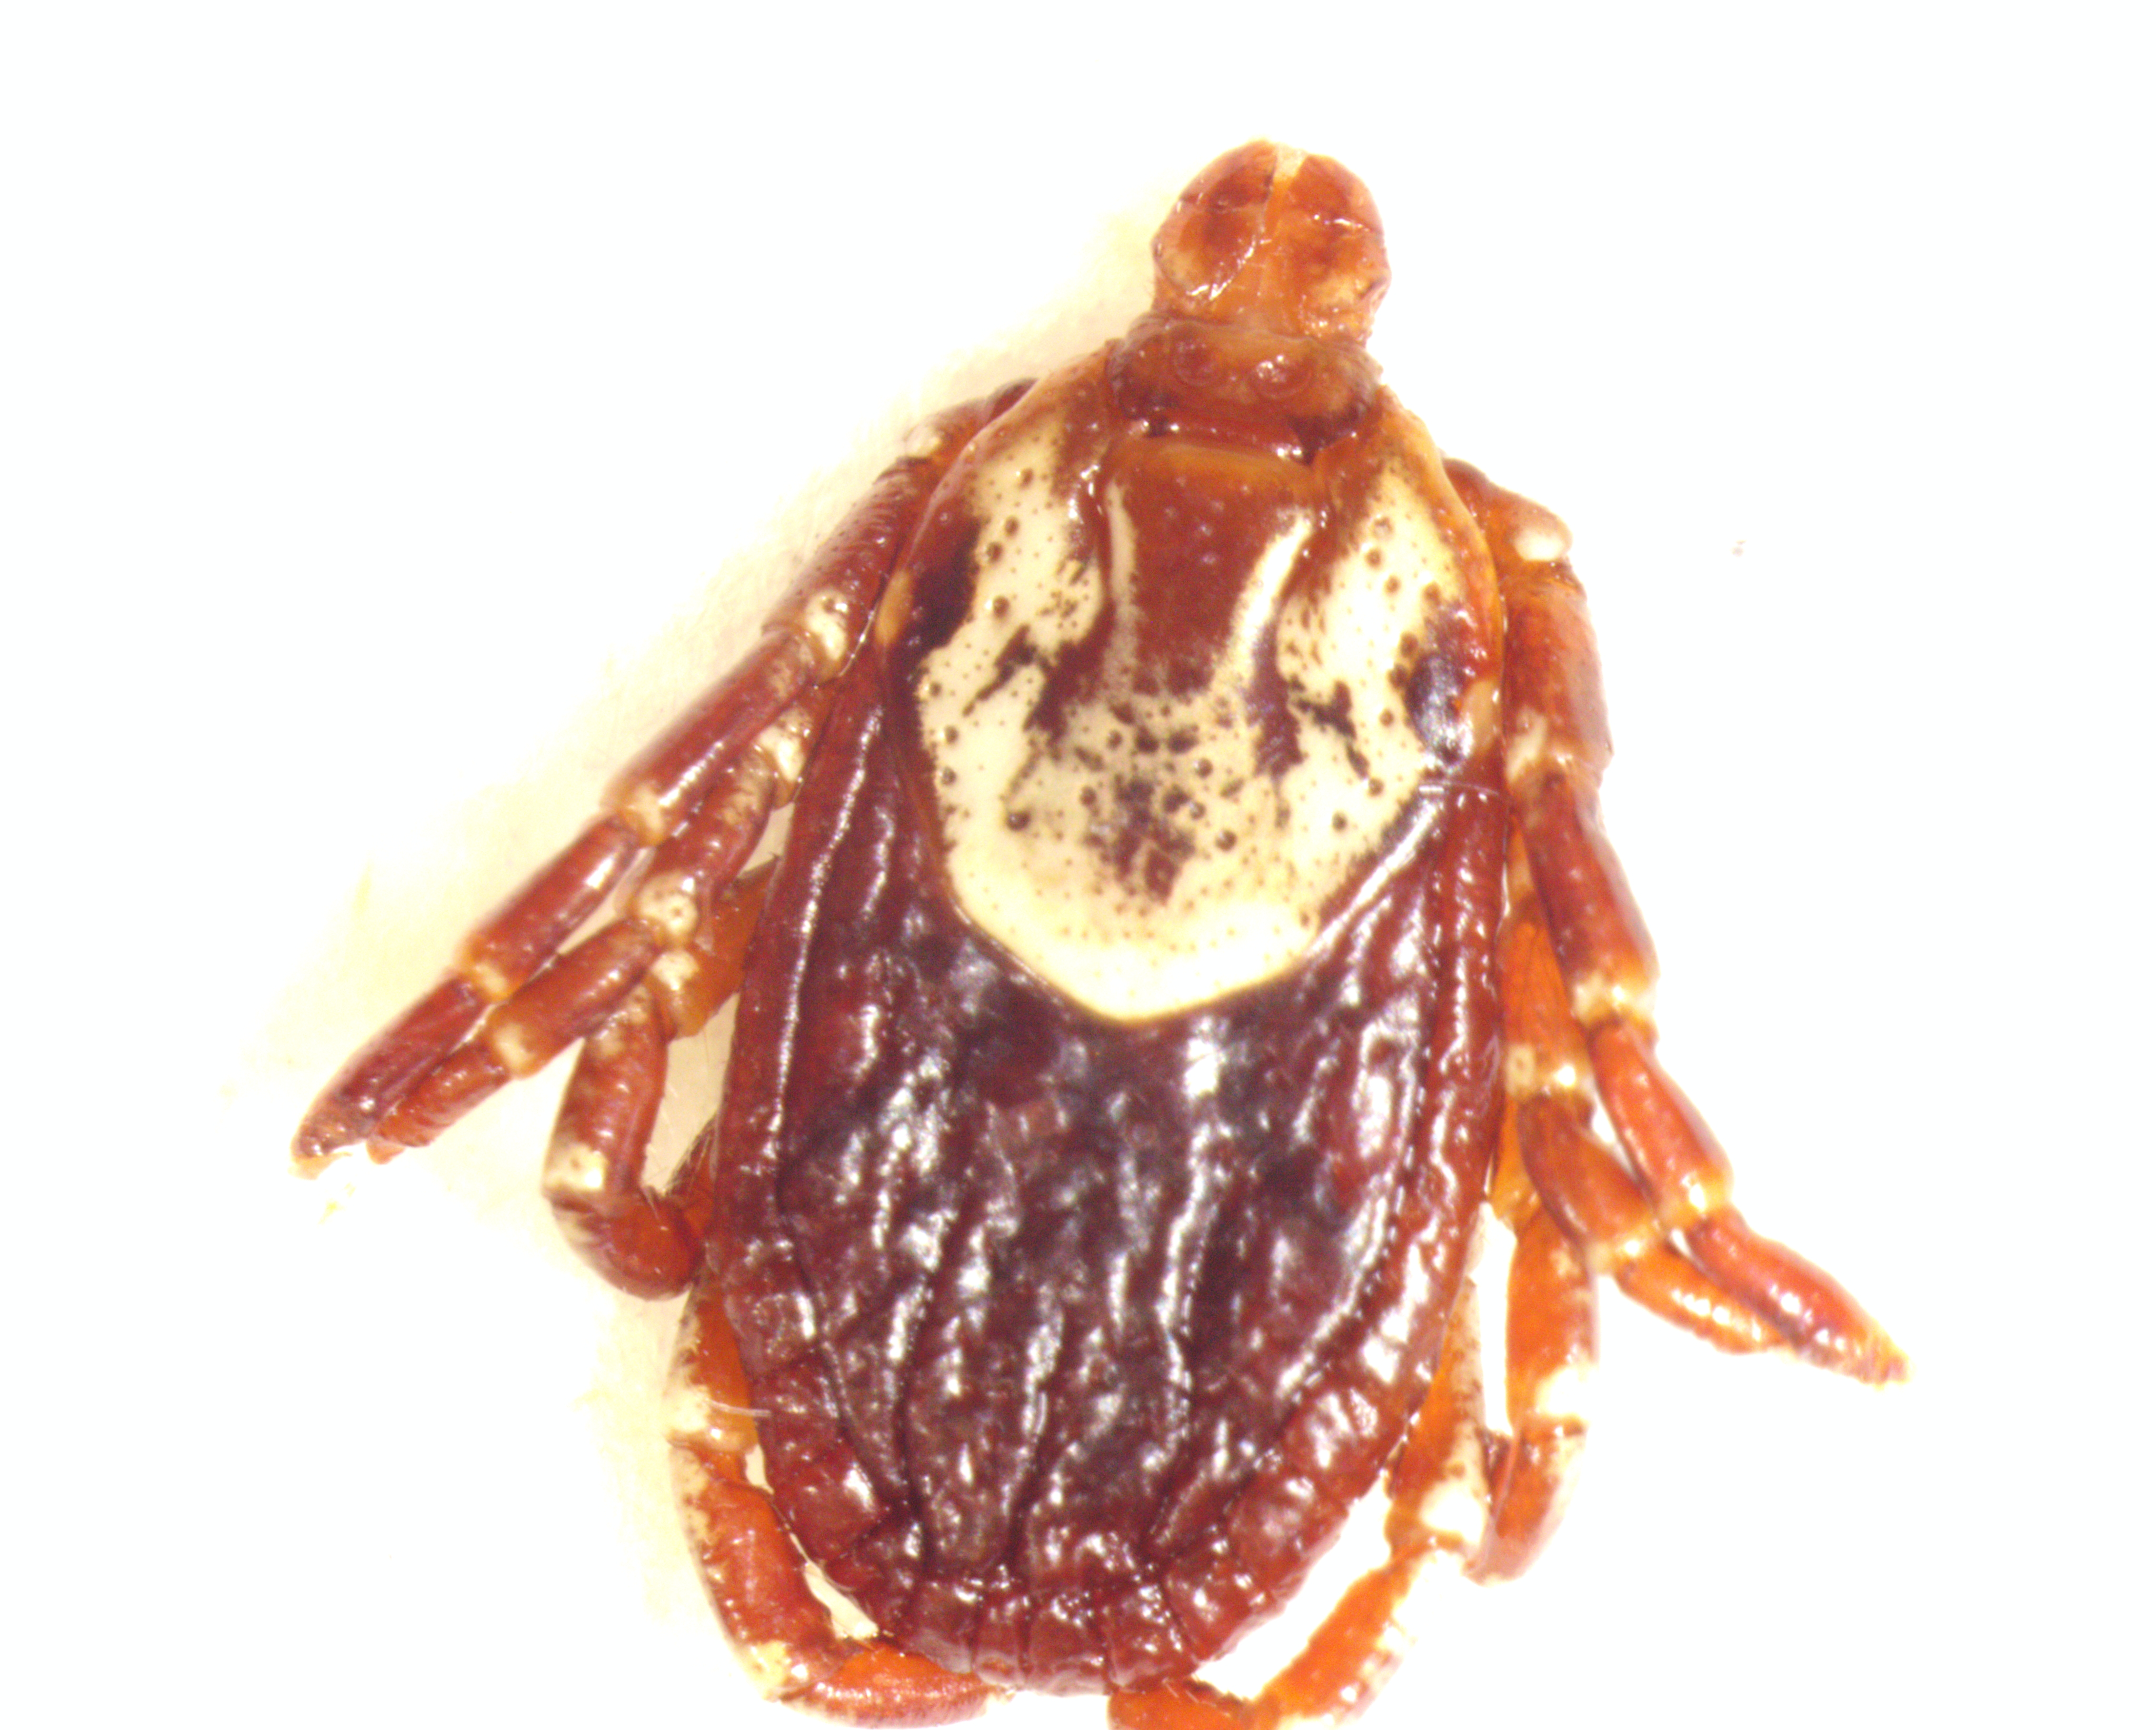unlabelled_tick: (211, 98, 1960, 1729)
